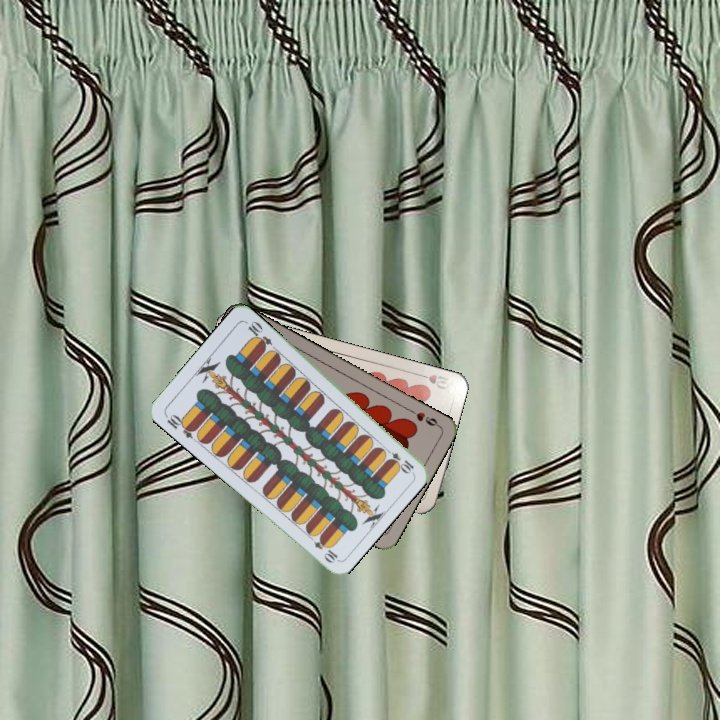E10: (161, 410, 198, 441), (380, 444, 416, 475)
H10: (413, 369, 454, 392)
H9: (405, 405, 442, 429)
